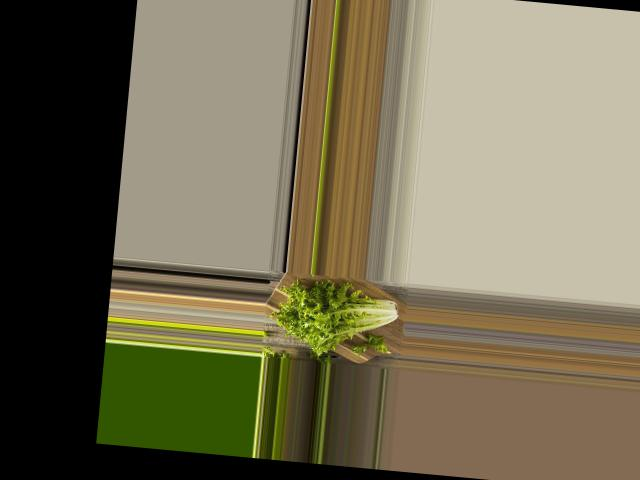lettuce: (273, 275, 407, 361)
